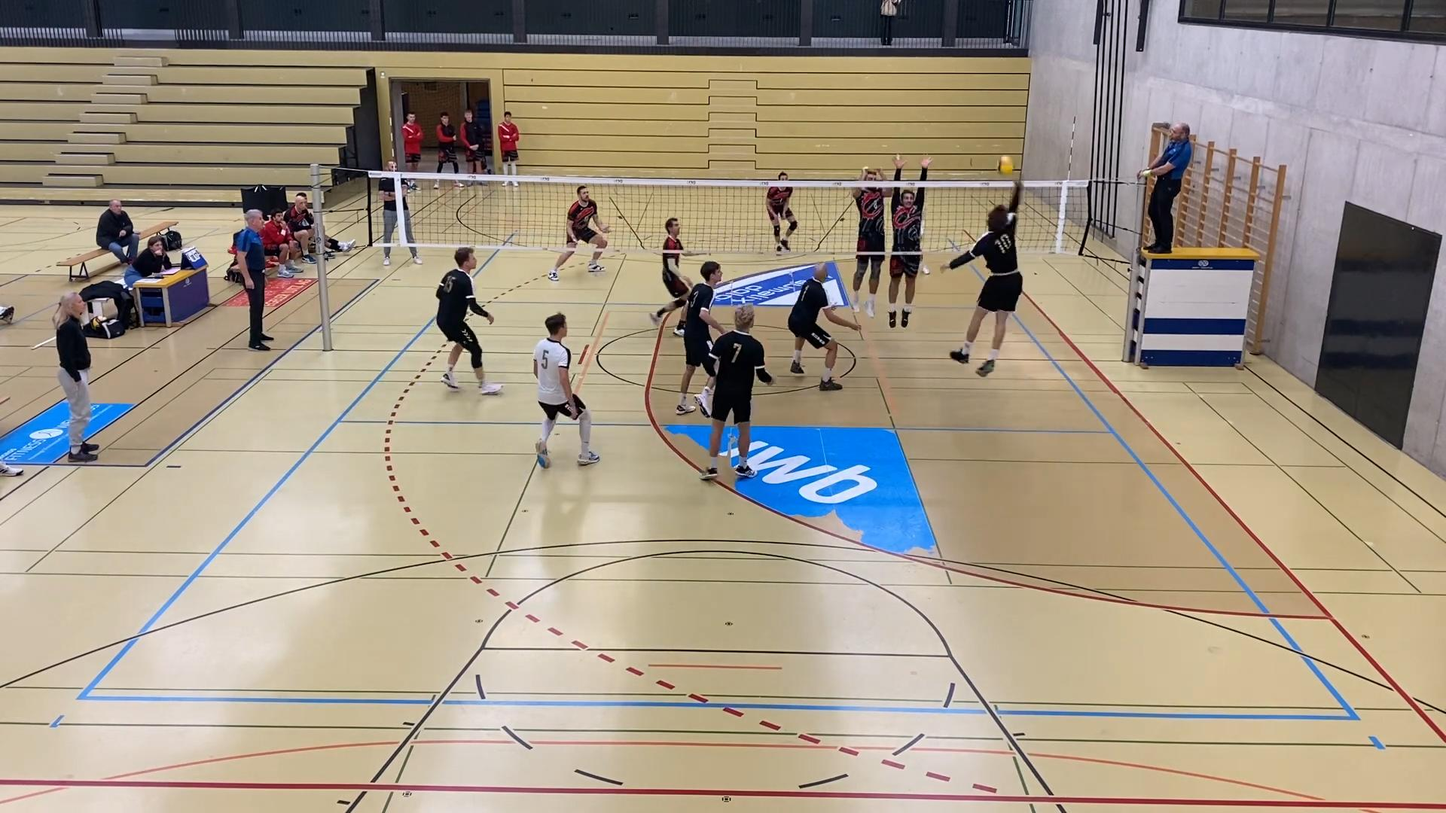attacco: (935, 172, 1031, 375)
muro: (885, 151, 929, 338), (850, 162, 894, 318)
